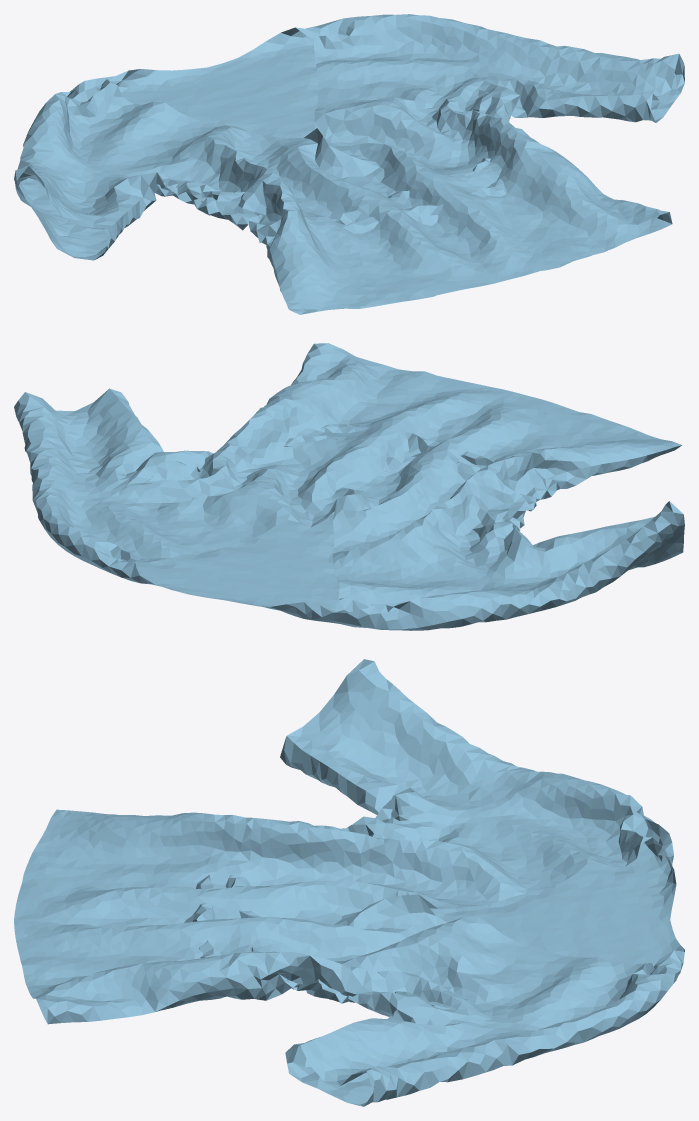
Rendered from frame_03.glb.
The picture shows the model from 3 angles, top to bottom: view 1: azimuth 30°, elevation 25°; view 2: azimuth 150°, elevation 25°; view 3: azimuth 270°, elevation 25°; orthographic projection. The views are drawn at different scales.
Parts seen in each view (by area): view 1: frame_03.obj; view 2: frame_03.obj; view 3: frame_03.obj.
Part boxes in pixels (bbox=[...]): frame_03.obj: bbox=[14, 14, 684, 314]; frame_03.obj: bbox=[14, 343, 684, 630]; frame_03.obj: bbox=[14, 659, 684, 1106].
Size of the model in its own units: 1.93 by 0.2315 by 1.48.
